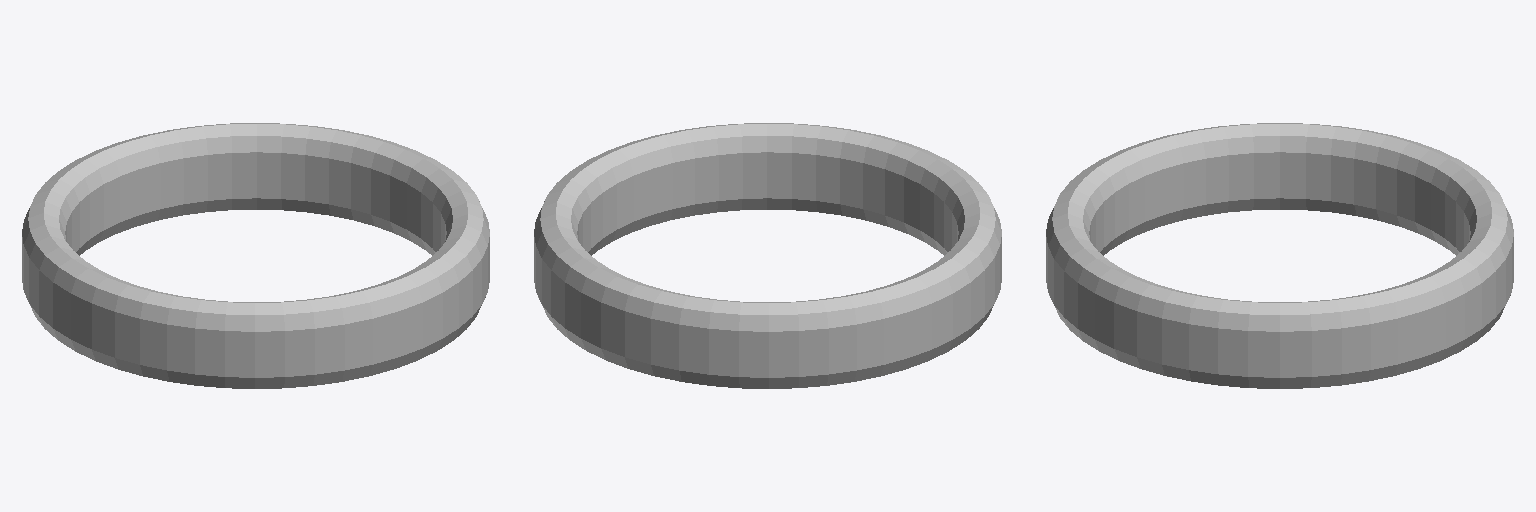
The model's file is halo.obj.
3 views of the same model, side by side, from view 1: azimuth 30°, elevation 25°; view 2: azimuth 150°, elevation 25°; view 3: azimuth 270°, elevation 25° (orthographic).
Visible parts, largest first — view 1: BézierCircle; view 2: BézierCircle; view 3: BézierCircle.
Boxes of the visible parts, x1,y1,x2,y2 form: BézierCircle: [22, 123, 489, 388]; BézierCircle: [534, 123, 1001, 388]; BézierCircle: [1046, 123, 1513, 388].
Size of the model in its own units: 4.97 by 1 by 4.97.